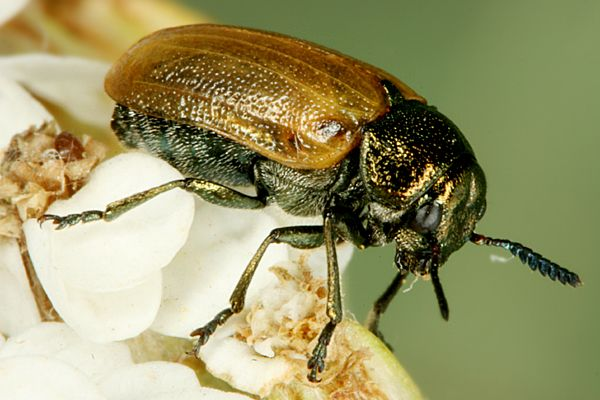Labidostomis_longimana: (35, 15, 592, 385)
